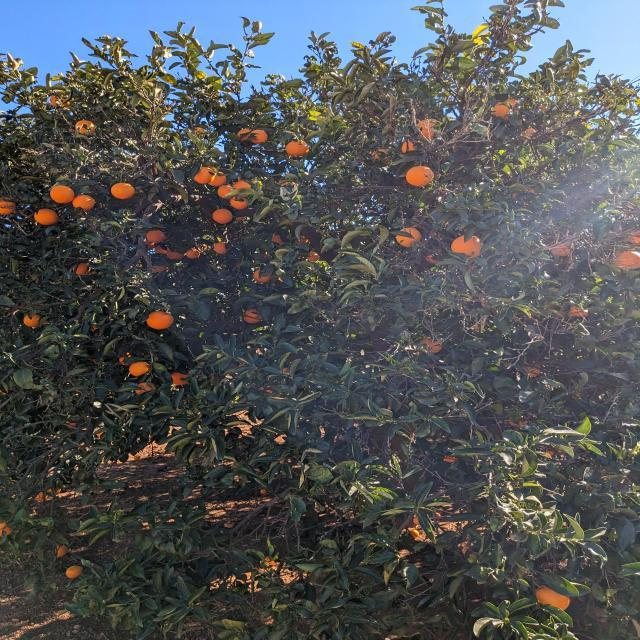Jeruk Sudah Matang: (404, 164, 434, 189), (538, 586, 568, 606), (452, 236, 480, 256), (147, 313, 175, 332), (616, 250, 640, 272), (416, 118, 440, 140), (283, 142, 309, 158), (551, 242, 577, 258), (34, 209, 58, 226), (51, 184, 72, 203), (112, 184, 136, 200), (421, 338, 443, 355), (492, 99, 512, 117), (396, 231, 416, 249), (74, 120, 96, 136), (212, 209, 234, 224), (74, 196, 95, 211), (194, 167, 214, 182), (372, 148, 392, 163), (131, 363, 152, 377), (24, 312, 42, 327), (232, 196, 251, 210), (253, 268, 272, 282), (571, 305, 591, 318), (216, 185, 233, 200), (253, 130, 270, 145), (242, 310, 260, 324), (0, 200, 15, 216), (210, 172, 226, 187), (147, 230, 165, 243), (138, 383, 156, 396), (65, 566, 81, 580), (168, 250, 186, 262), (402, 142, 420, 154), (234, 180, 250, 193), (172, 372, 186, 386), (188, 246, 204, 258), (520, 128, 536, 140), (188, 128, 204, 140), (75, 263, 89, 276), (216, 240, 228, 254), (150, 264, 170, 272), (271, 234, 286, 244), (238, 128, 252, 138), (307, 252, 320, 262), (1, 522, 11, 534), (266, 558, 278, 568), (154, 246, 168, 254), (296, 236, 310, 244), (56, 546, 67, 556), (442, 454, 454, 463), (95, 426, 104, 438), (36, 492, 46, 500), (410, 530, 420, 538), (414, 517, 422, 525)
